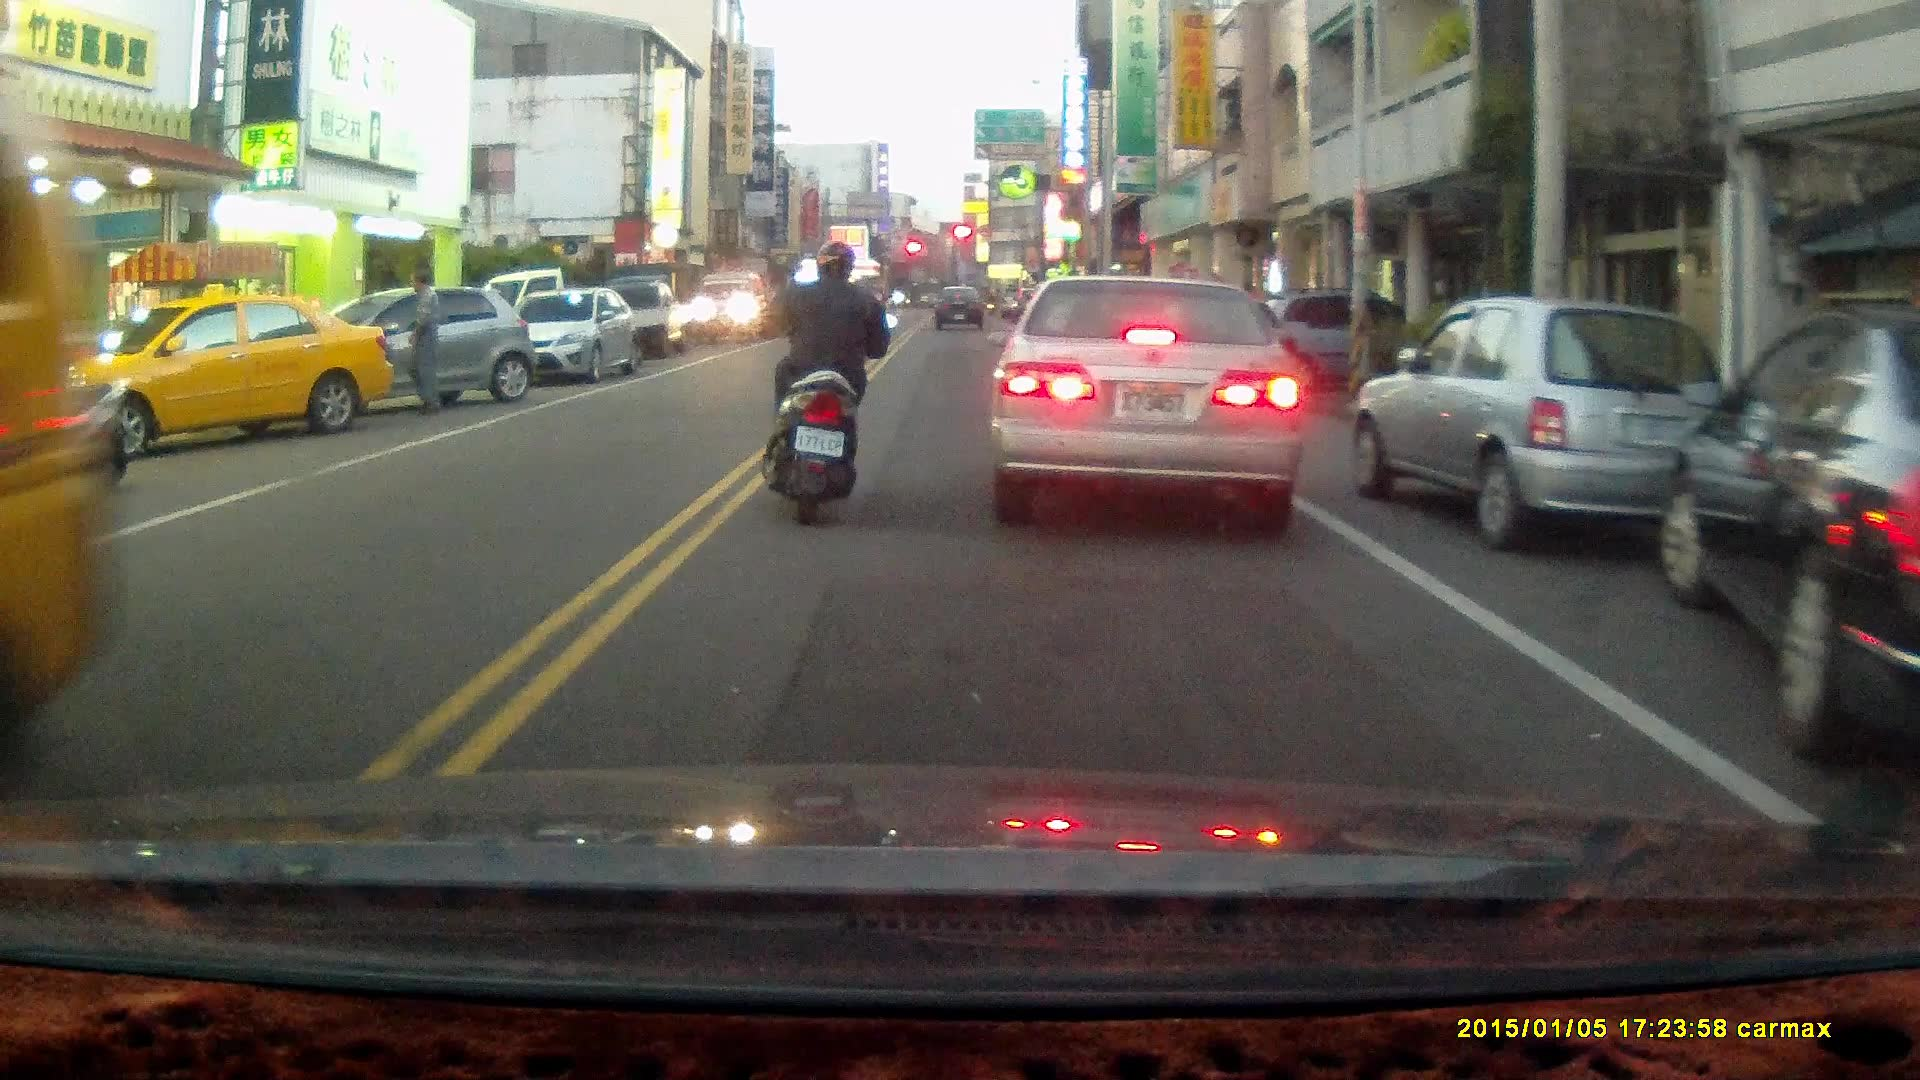pedestrian: (400, 269, 451, 417)
rider: (760, 237, 900, 527)
vehicle: (1654, 301, 1920, 771), (1351, 296, 1732, 551), (986, 272, 1308, 525), (1, 216, 113, 747), (29, 298, 406, 449), (310, 282, 532, 409), (513, 287, 642, 387), (688, 273, 773, 342)
